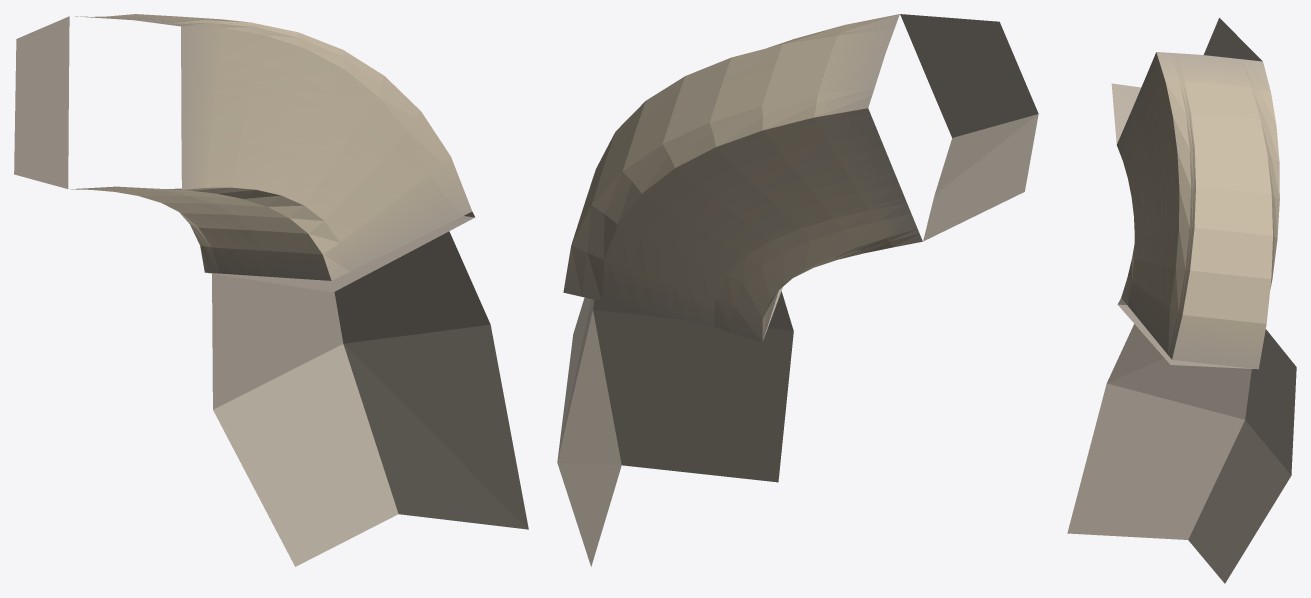
The model's file is combat-arm-12-0.glb.
The picture shows the model from 3 angles, left to right: view 1: azimuth 30°, elevation 25°; view 2: azimuth 150°, elevation 25°; view 3: azimuth 270°, elevation 25°; orthographic projection. The views are drawn at different scales.
Parts seen in each view (by area): view 1: world; view 2: world; view 3: world.
Part boxes in pixels (left/top/right/bottom): world: left=14, top=14, right=528, bottom=566; world: left=557, top=14, right=1038, bottom=566; world: left=1067, top=18, right=1296, bottom=583.
Bounding box in the file's own units: 235 × 291 × 136.
